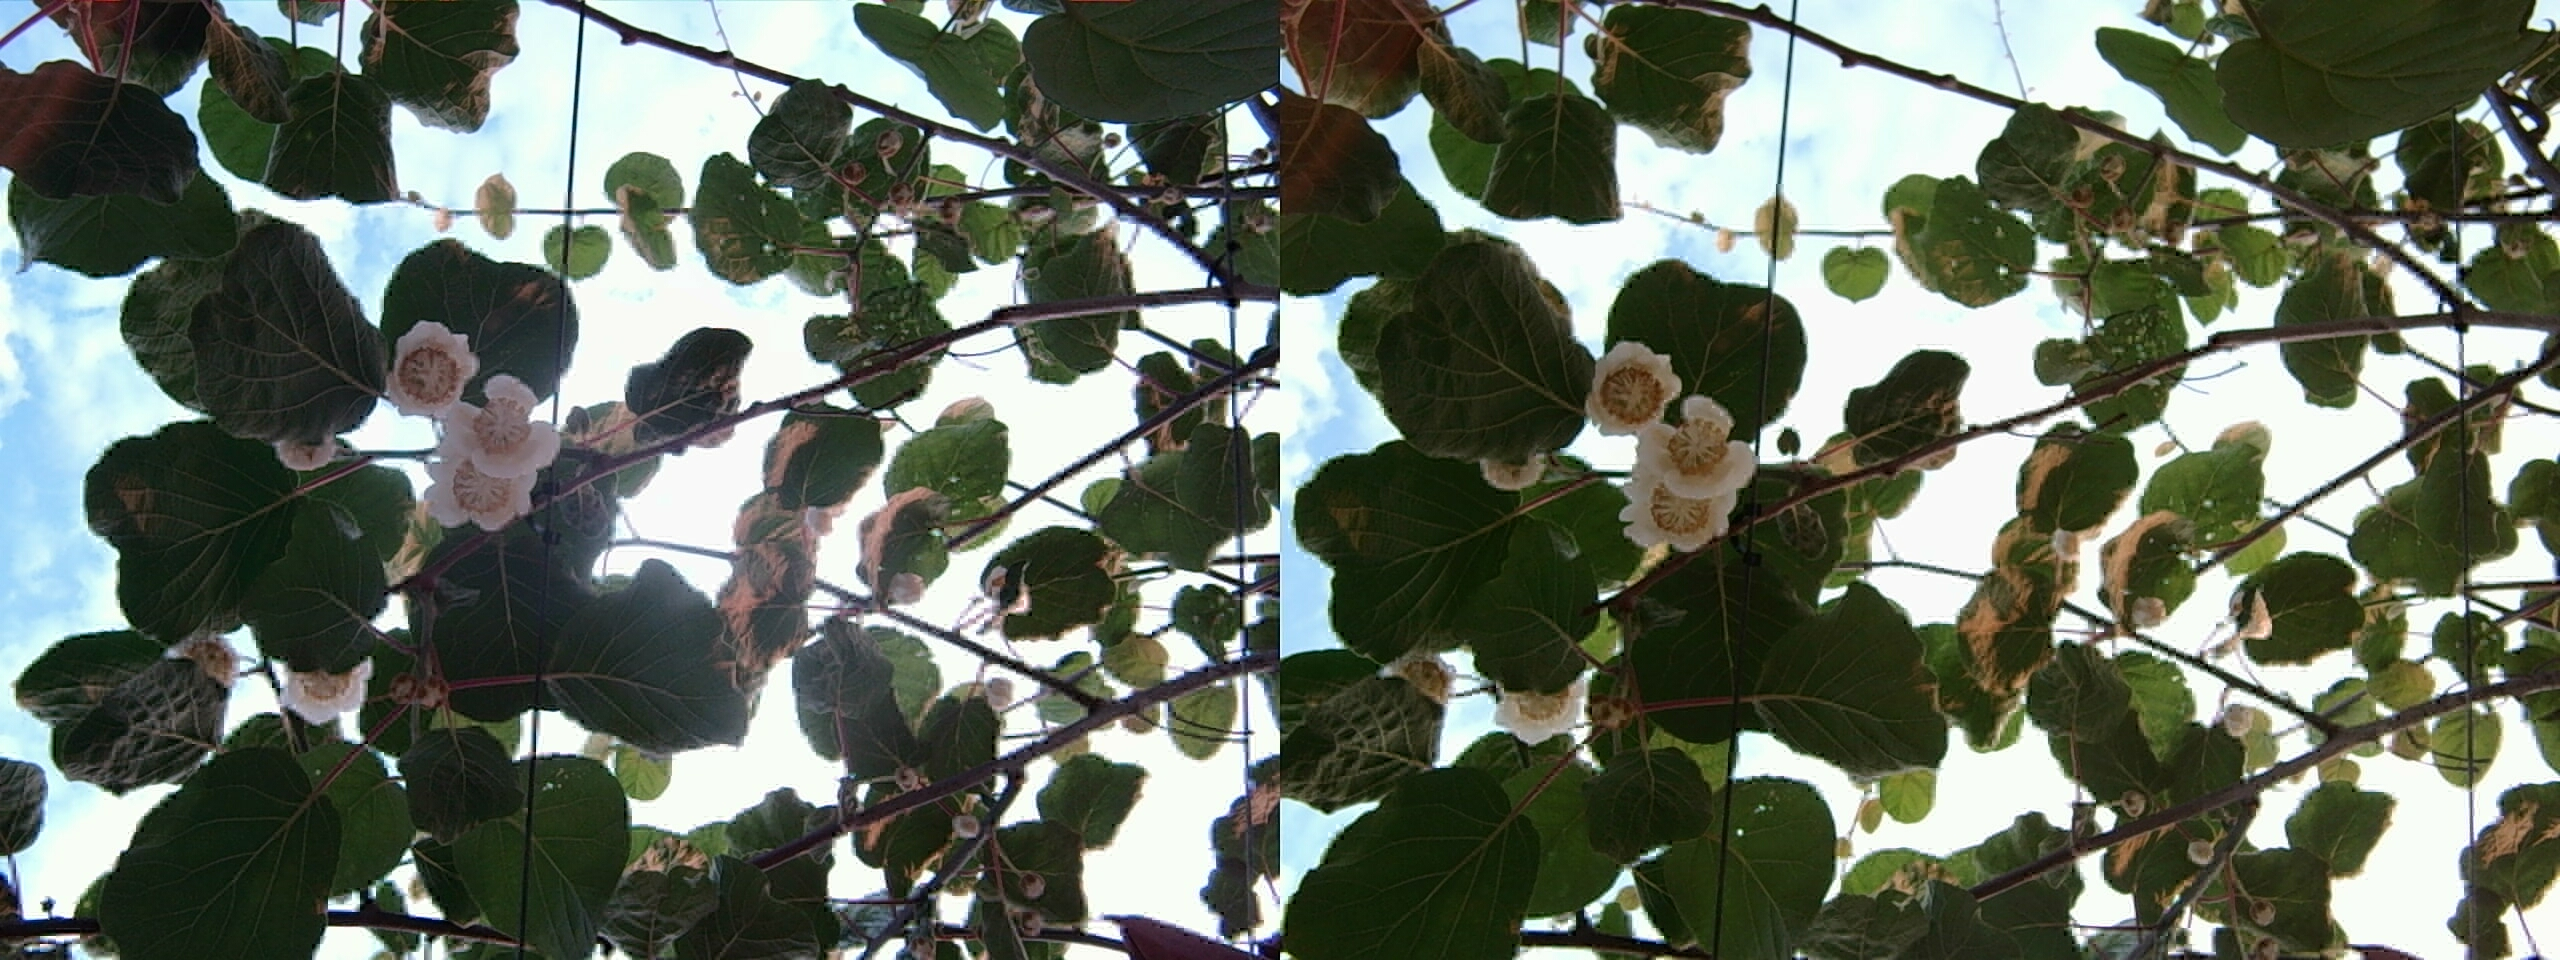flower: (415, 371, 565, 524), (1603, 389, 1753, 539), (1585, 340, 1677, 433)
